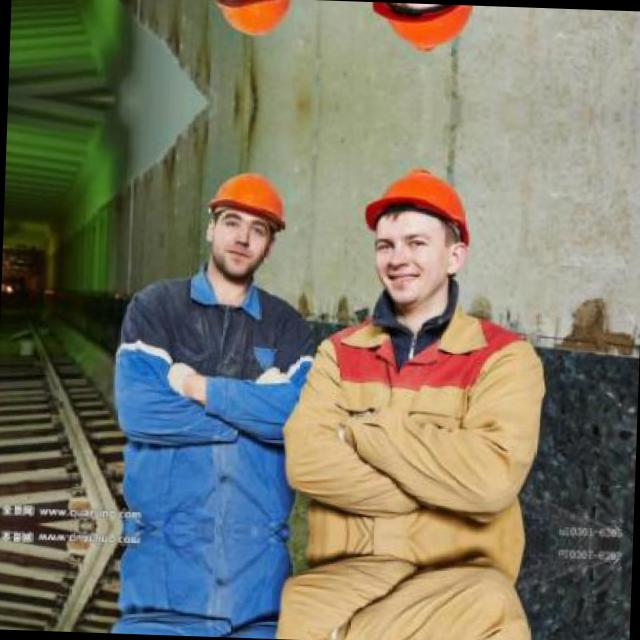helmet: (348, 152, 482, 312), (198, 156, 298, 282), (356, 2, 489, 68), (206, 0, 305, 51)
